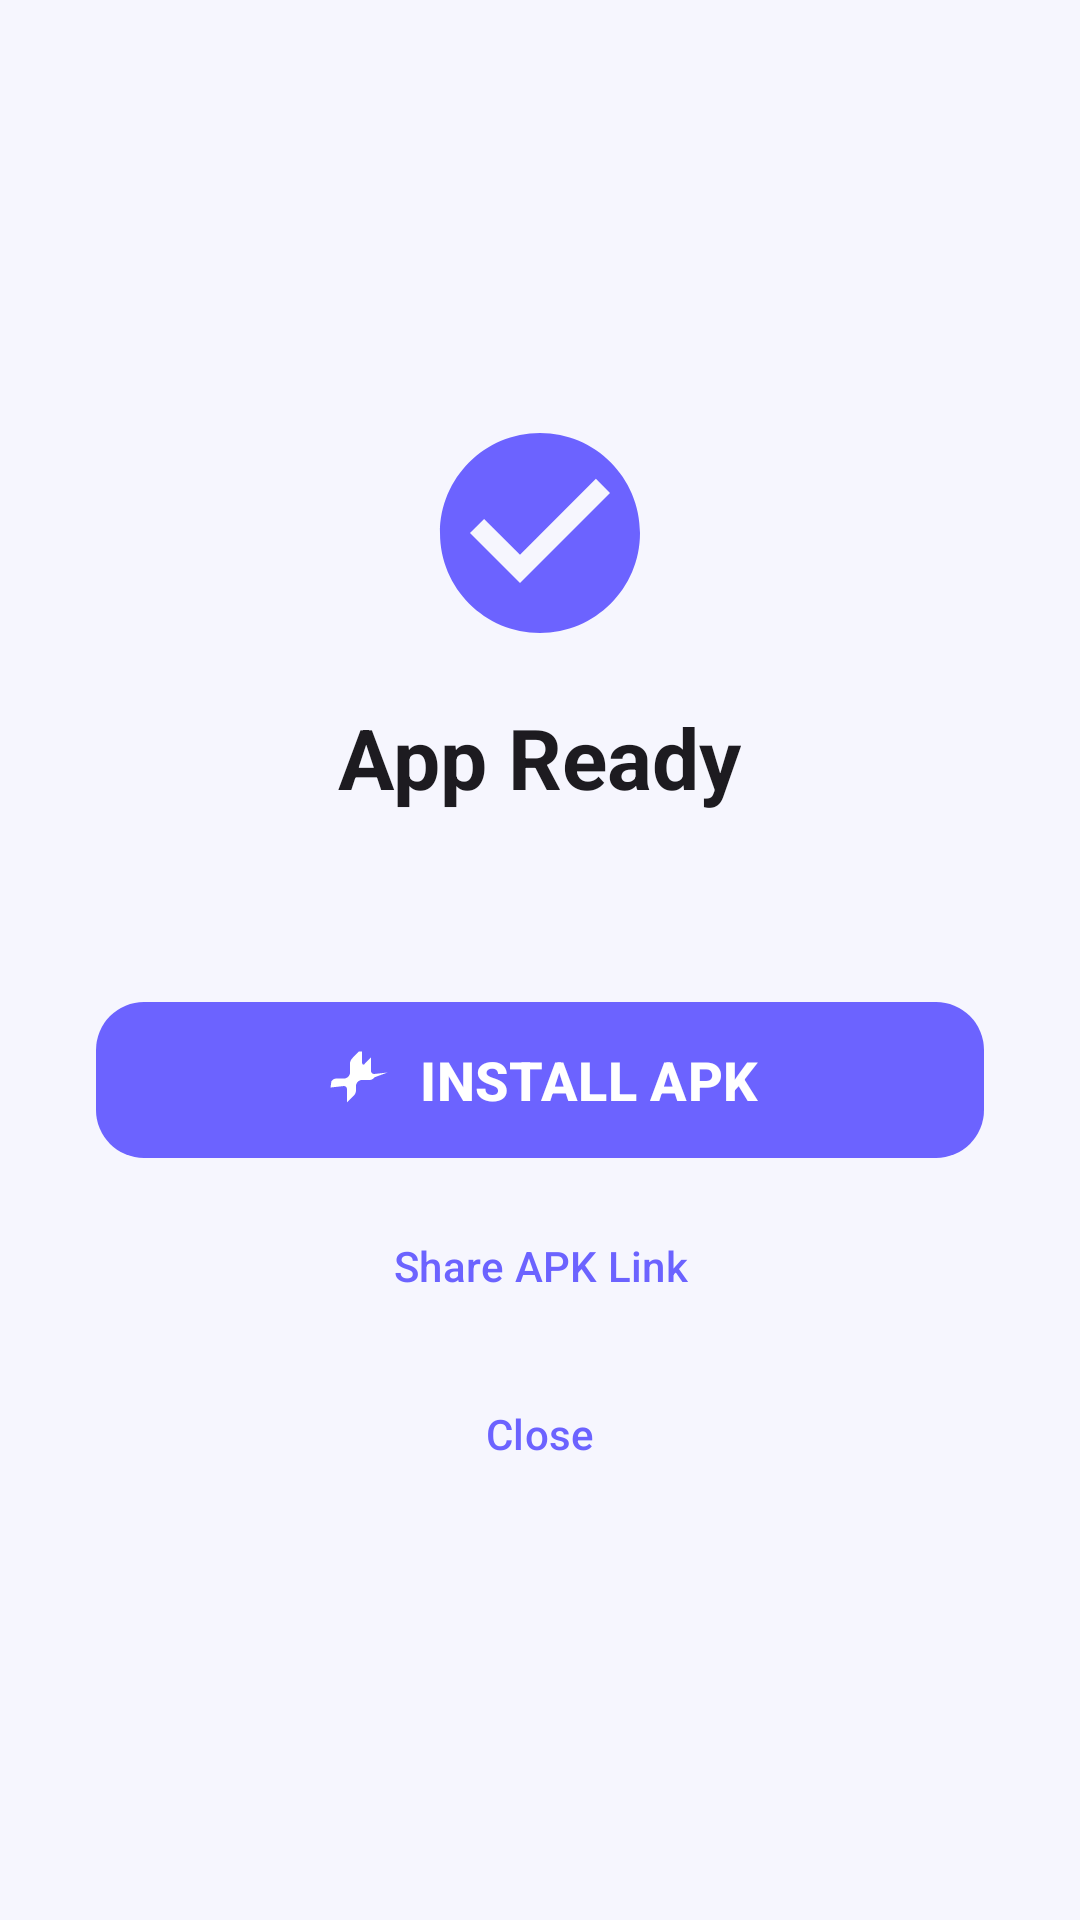

Where to tap for icons on this 1080w x 1920h app screen, as (x,y):
check: (540,533)
